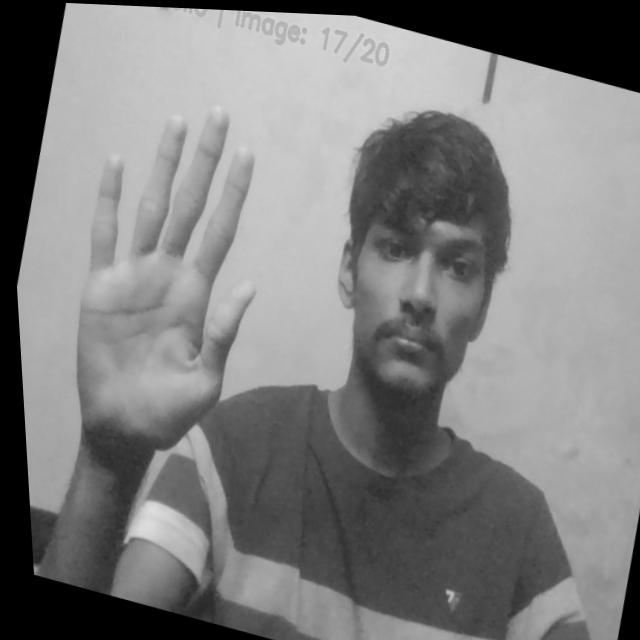Hello: (29, 67, 302, 481)
